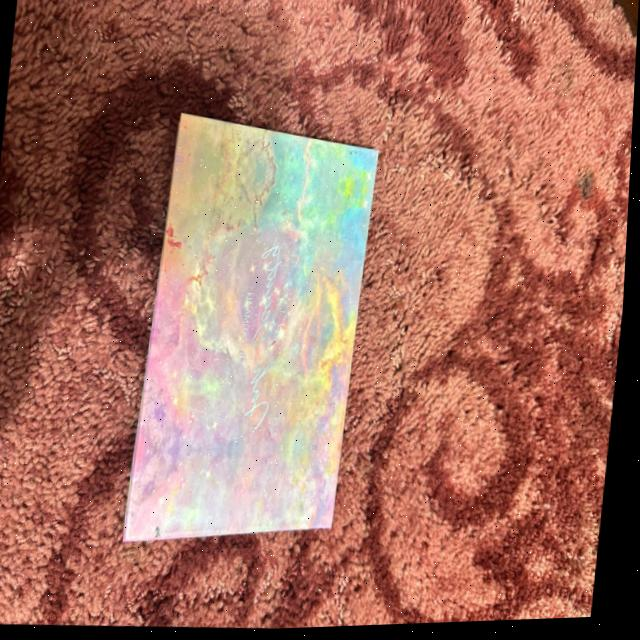makeup: (81, 81, 418, 591)
